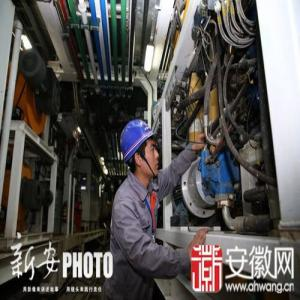blue: (121, 119, 162, 183)
